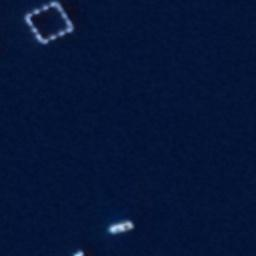square_solid: (21, 1, 80, 49)
